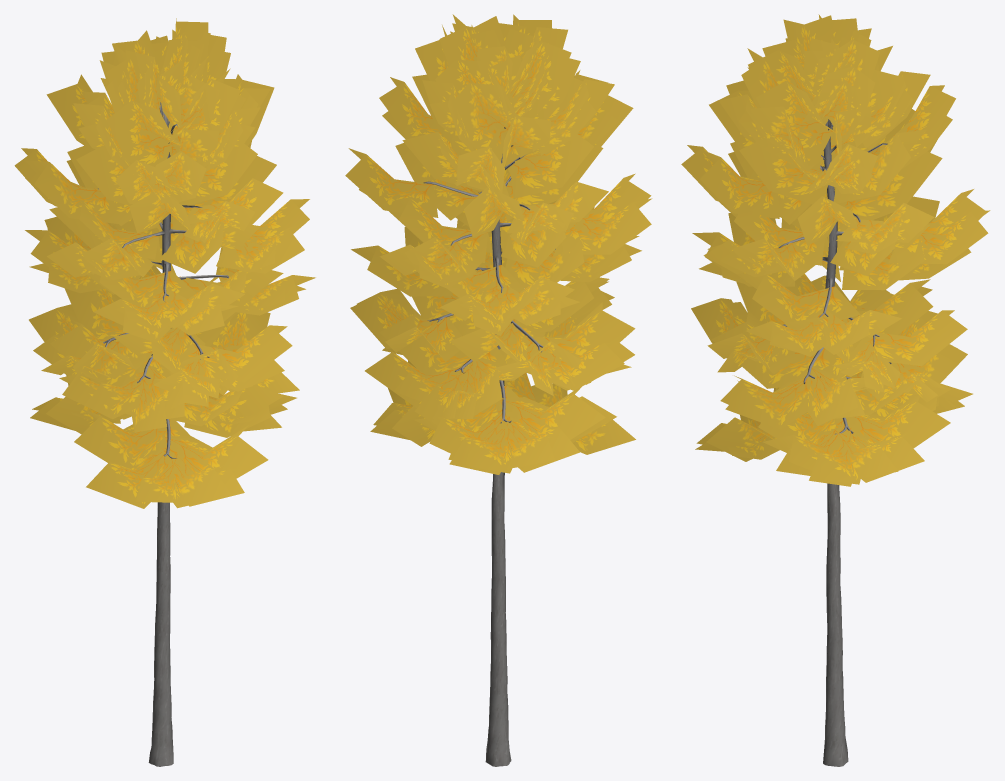
File: Tree_LOD2.fbx
The picture shows the model from 3 angles, left to right: view 1: azimuth 30°, elevation 25°; view 2: azimuth 150°, elevation 25°; view 3: azimuth 270°, elevation 25°; orthographic projection.
Visible parts, largest first — view 1: leaves_1, bark_base_0; view 2: leaves_1, bark_base_0; view 3: leaves_1, bark_base_0.
Part boxes in pixels (left/top/right/bottom): leaves_1: left=14, top=18, right=315, bottom=508; bark_base_0: left=98, top=102, right=229, bottom=766; leaves_1: left=345, top=14, right=652, bottom=474; bark_base_0: left=423, top=127, right=555, bottom=766; leaves_1: left=681, top=14, right=990, bottom=486; bark_base_0: left=778, top=119, right=891, bottom=766.
Bounding box in the file's own units: 451 × 1189 × 455.
